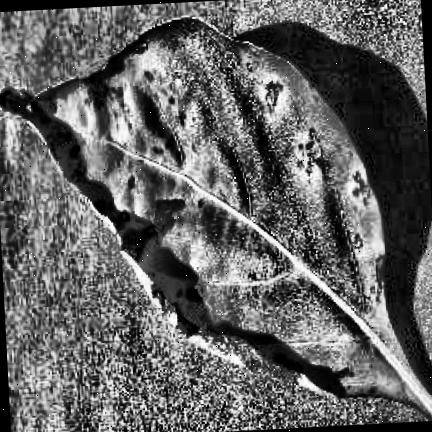leaf: (0, 18, 432, 419)
